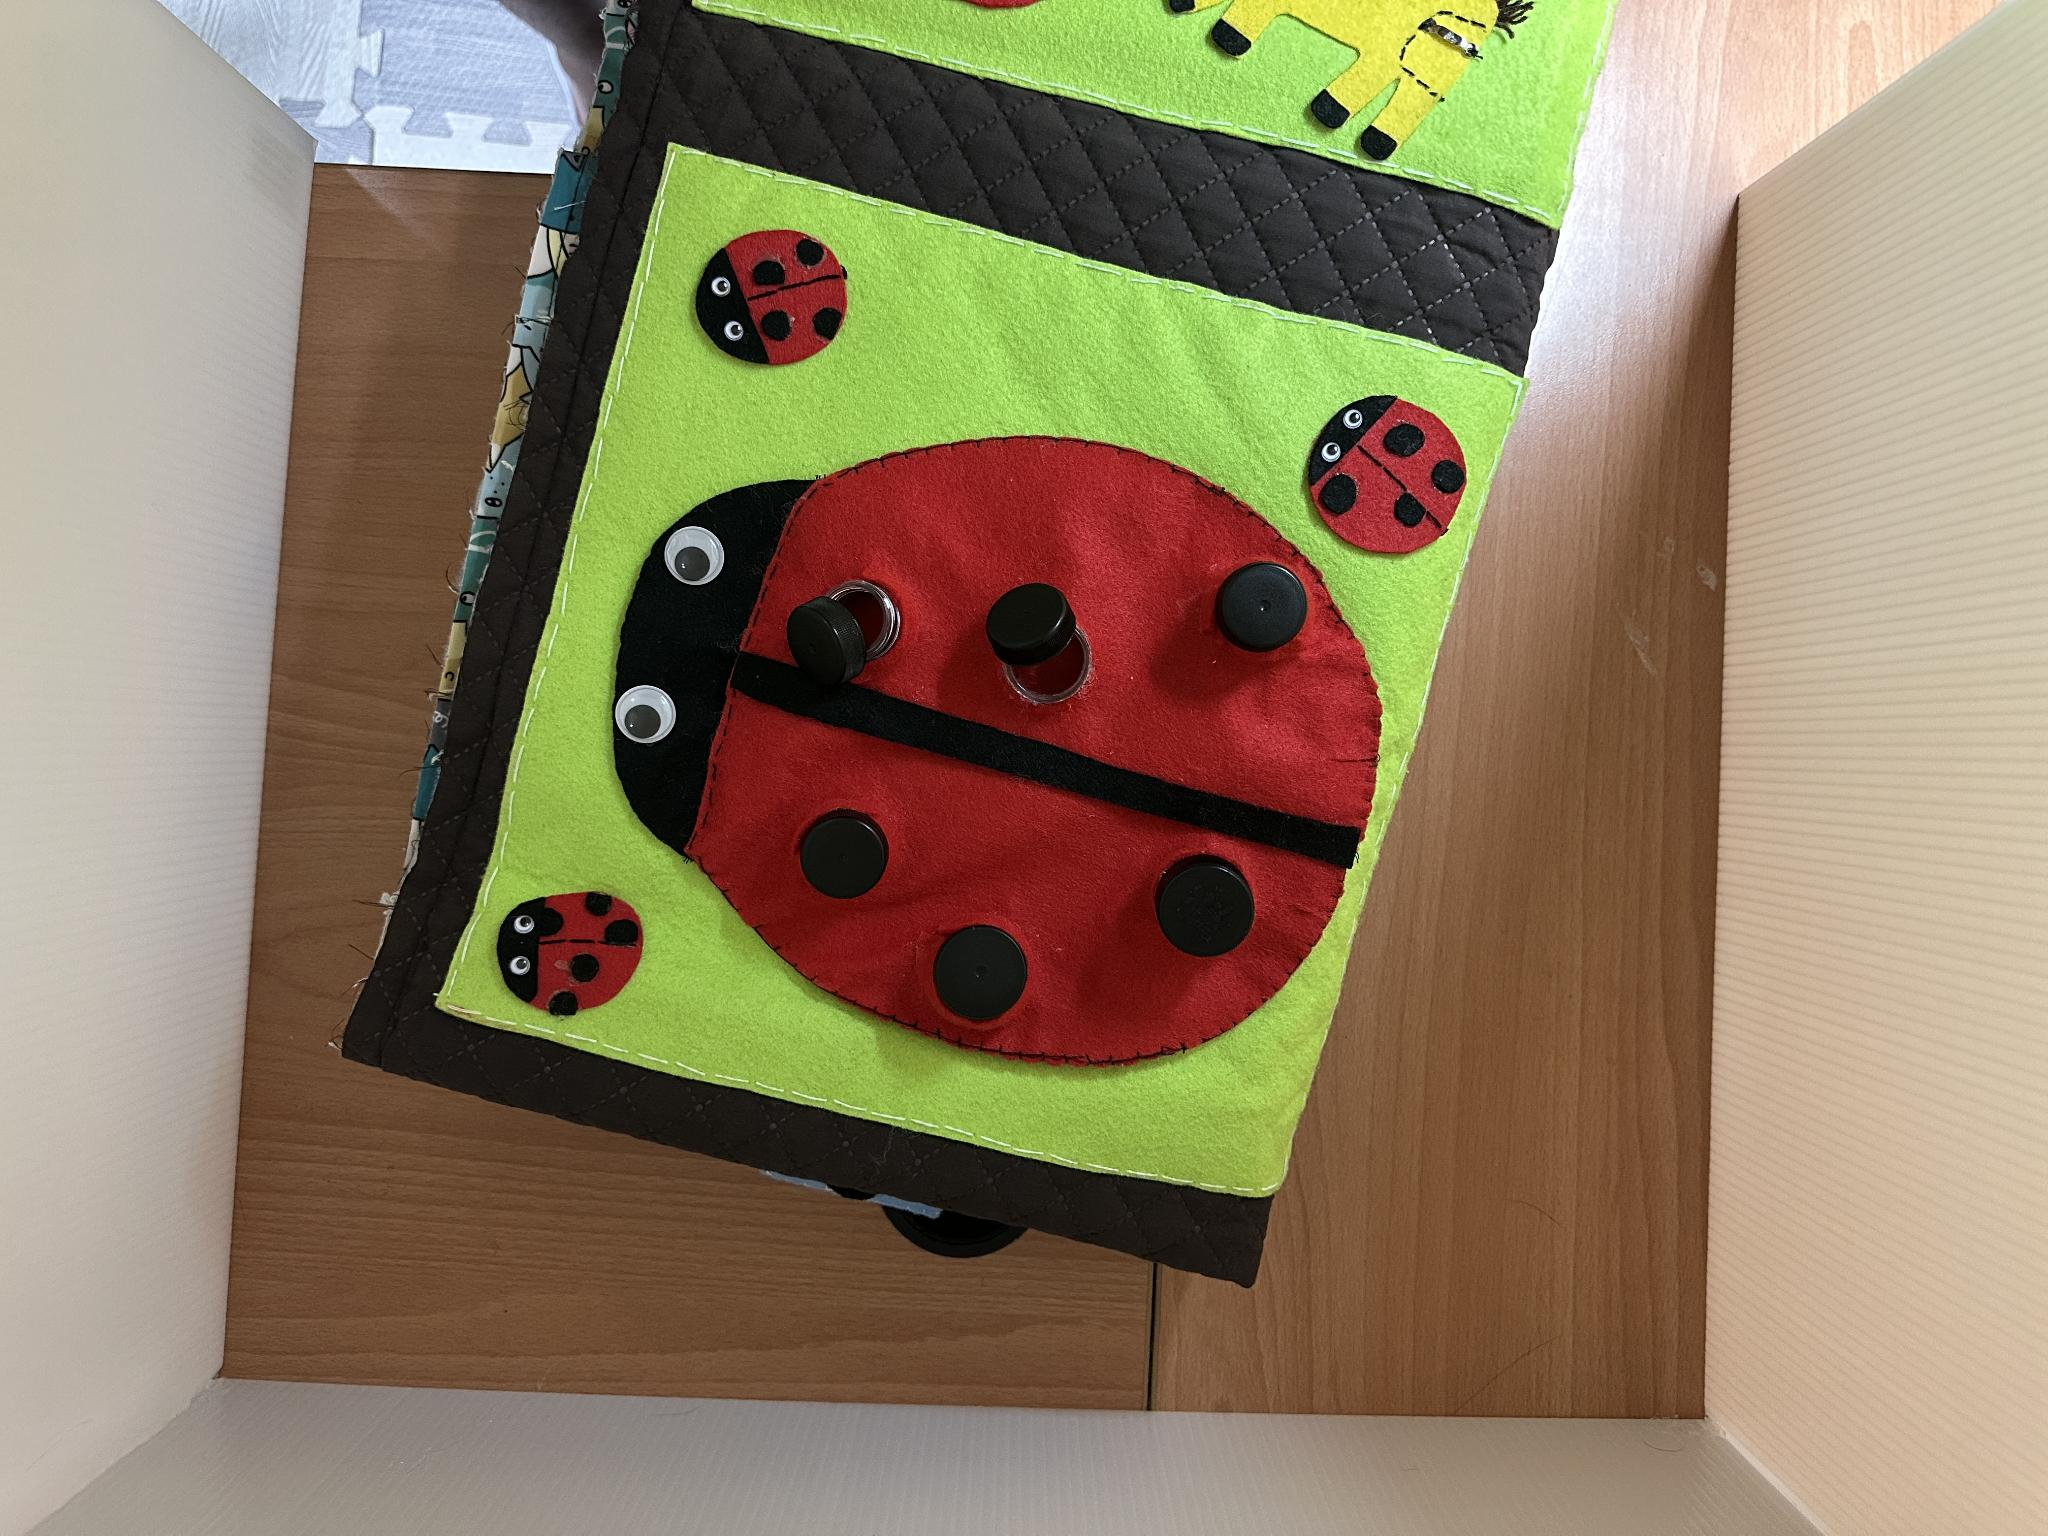cap_ng: (963, 565, 1109, 720), (780, 565, 918, 691)
cap_ok: (1135, 831, 1279, 978), (916, 905, 1051, 1039), (789, 787, 910, 913), (1205, 544, 1329, 665)
